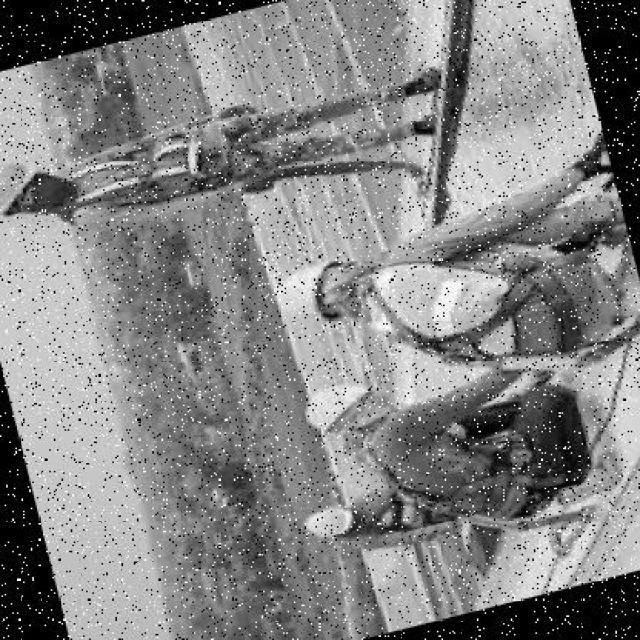Arnes_seguridad: (360, 228, 617, 404), (357, 384, 577, 561), (43, 112, 248, 228), (339, 470, 464, 558)
